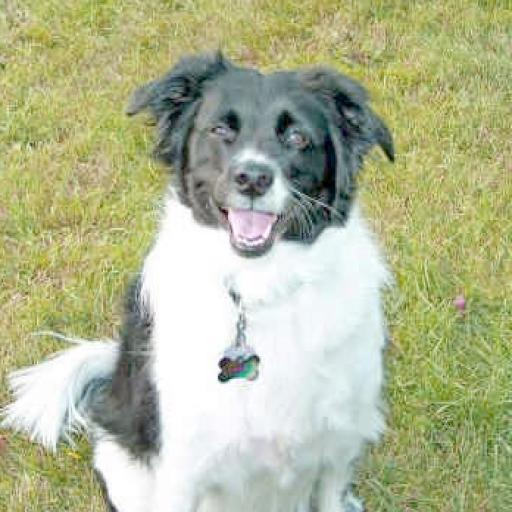dog_face: (132, 47, 386, 240)
